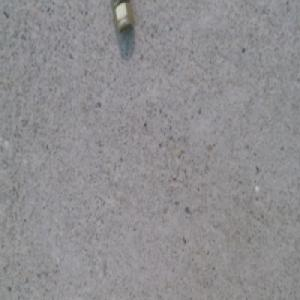BoltNutSet: (112, 0, 132, 37)
